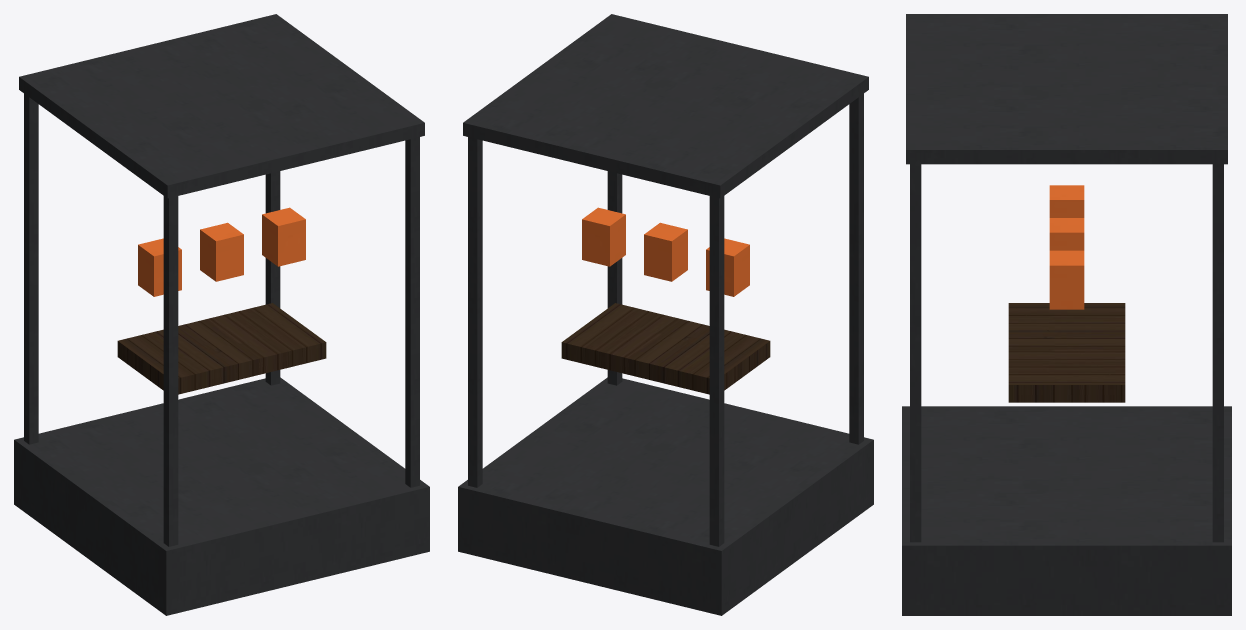
The model's file is vault_case_feast_01.glb.
The picture shows the model from 3 angles, left to right: view 1: azimuth 30°, elevation 25°; view 2: azimuth 150°, elevation 25°; view 3: azimuth 270°, elevation 25°; orthographic projection. The views are drawn at different scales.
Visible parts, largest first — view 1: vault_case_feast_01; view 2: vault_case_feast_01; view 3: vault_case_feast_01.
Part boxes in pixels (x1,y1,x2,y2): vault_case_feast_01: (14, 14, 429, 615); vault_case_feast_01: (458, 14, 873, 615); vault_case_feast_01: (902, 14, 1231, 615).
Bounding box in the file's own units: 1.7 × 2.64 × 1.7.
3 materials, 3 textured.
